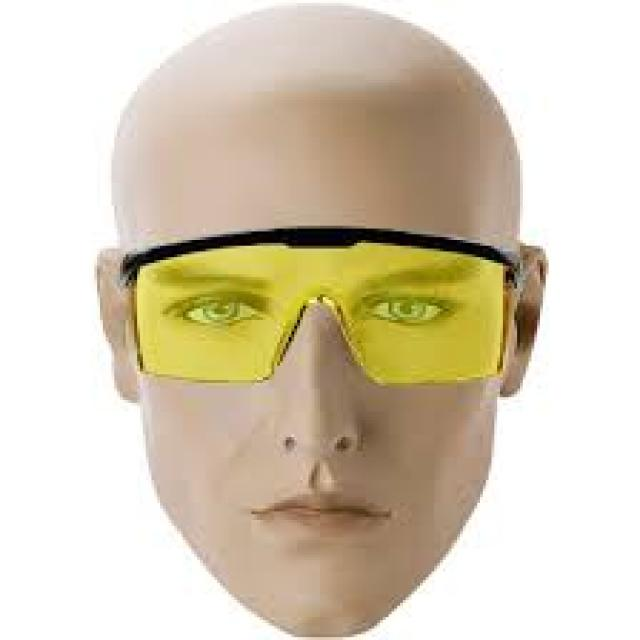oculos-epi: (120, 226, 520, 383)
